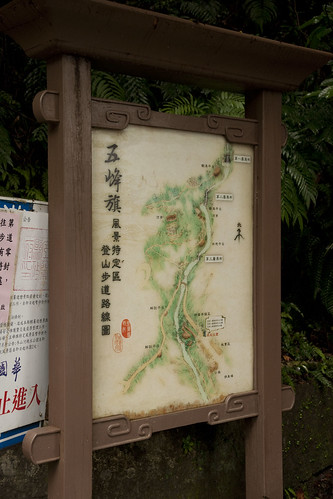wufengciMap: (97, 138, 257, 309)
